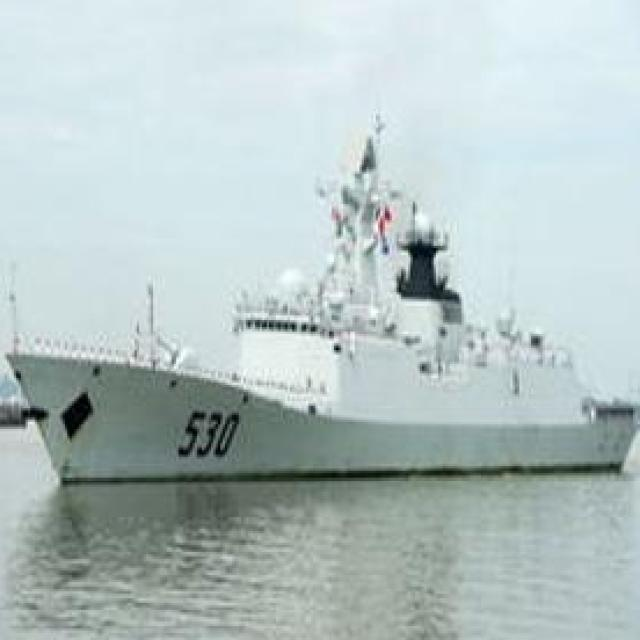navalvessels: (8, 122, 628, 489)
